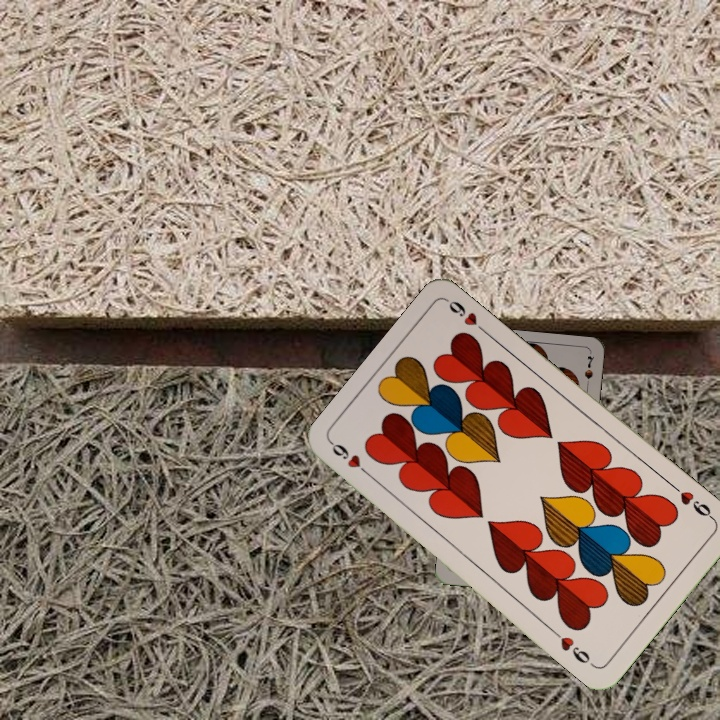H9: (327, 439, 377, 482), (668, 481, 717, 523)
